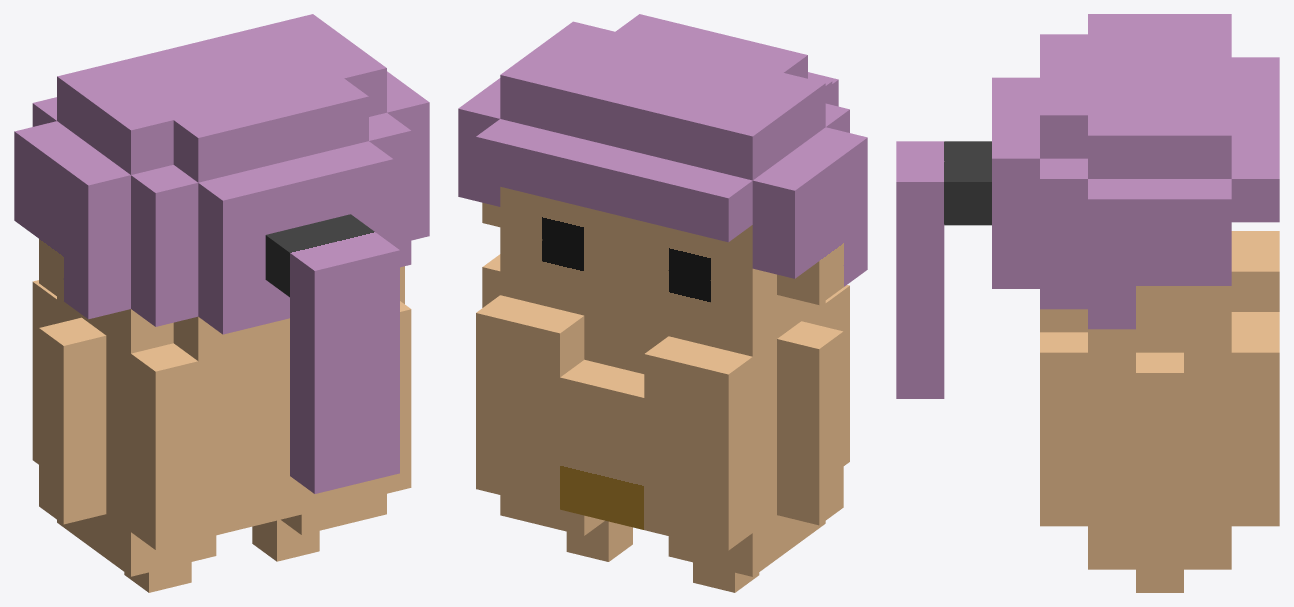
File: chr_naked3.fbx
3 renders of one model, left to right at view 1: azimuth 30°, elevation 25°; view 2: azimuth 150°, elevation 25°; view 3: azimuth 270°, elevation 25°, orthographic. The views are drawn at different scales.
Parts seen in each view (by area): view 1: chr_naked3; view 2: chr_naked3; view 3: chr_naked3.
Boxes of the visible parts, x1,y1,x2,y2 form: chr_naked3: (14, 14, 429, 592); chr_naked3: (458, 14, 867, 592); chr_naked3: (896, 14, 1279, 592).
Size of the model in its own units: 0.8 by 0.8 by 1.1.
Materials: 1 (1 with a texture image).
